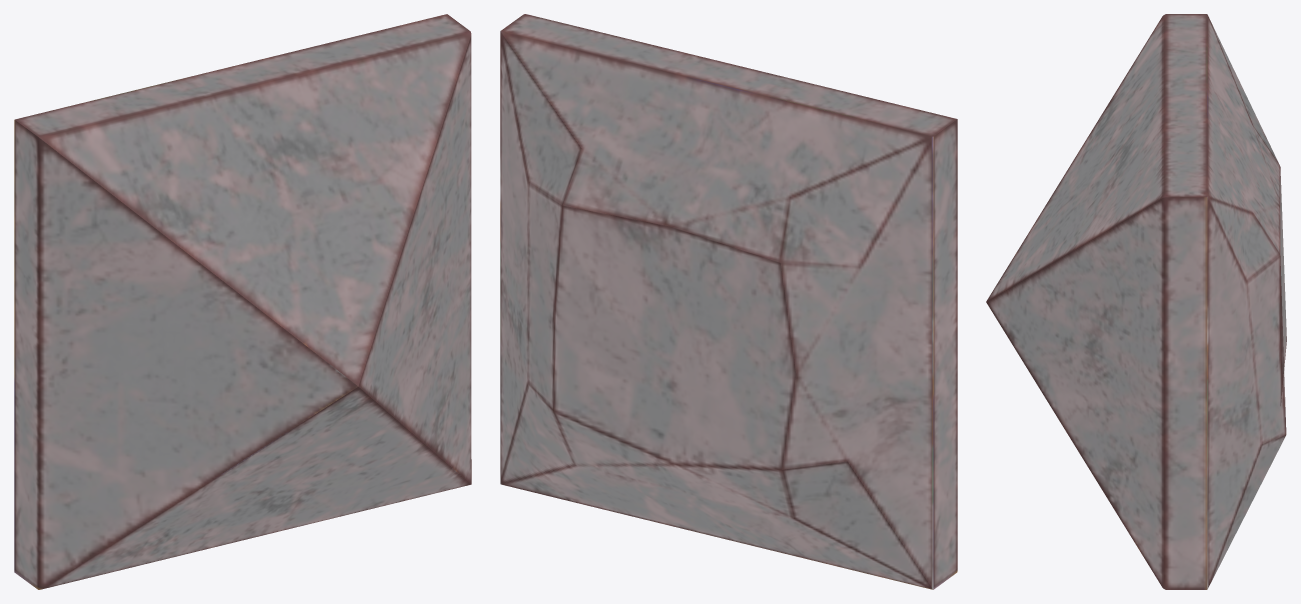
Rendered from Princess.glb.
3 views of the same model, side by side, from view 1: azimuth 30°, elevation 25°; view 2: azimuth 150°, elevation 25°; view 3: azimuth 270°, elevation 25° (orthographic). The views are drawn at different scales.
Parts seen in each view (by area): view 1: Plane.007_Diamond_Master_0; view 2: Plane.007_Diamond_Master_0; view 3: Plane.007_Diamond_Master_0.
Part boxes in pixels (left/top/right/bottom): Plane.007_Diamond_Master_0: left=14, top=14, right=471, bottom=589; Plane.007_Diamond_Master_0: left=500, top=14, right=957, bottom=589; Plane.007_Diamond_Master_0: left=986, top=14, right=1286, bottom=589.
Bounding box in the file's own units: 1.09 × 1.09 × 0.757.
Materials: 1 (1 with a texture image).
